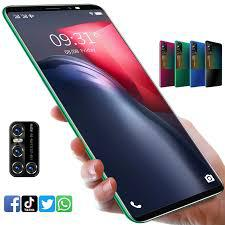Hand: (51, 104, 222, 221)
Smartphone: (9, 7, 216, 220), (156, 41, 176, 86), (189, 39, 207, 85), (205, 40, 223, 86), (174, 42, 189, 86)
